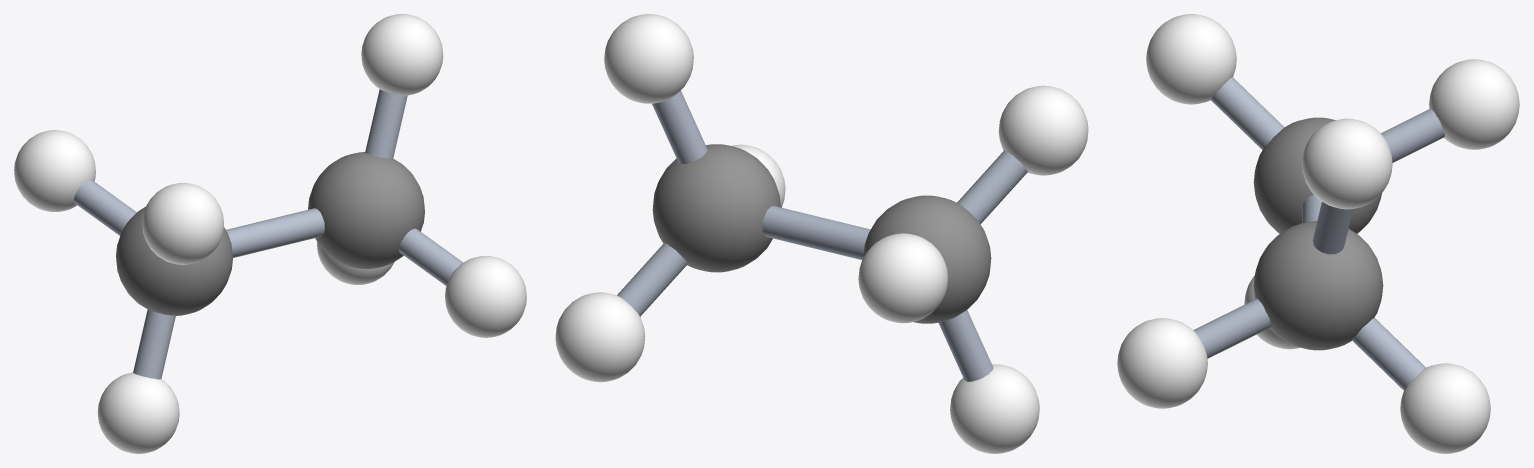
Rendered from ethane.glb.
3 renders of one model, left to right at view 1: azimuth 30°, elevation 25°; view 2: azimuth 150°, elevation 25°; view 3: azimuth 270°, elevation 25°, orthographic. The views are drawn at different scales.
Visible parts, largest first — view 1: H (×6), C (×2), bond (×5); view 2: H (×6), C (×2), bond (×5); view 3: H (×6), C (×2), bond (×6).
Part boxes in pixels (<box>): H (×6): <box>14,14,526,453</box>; C (×2): <box>116,152,424,315</box>; bond (×5): <box>73,89,463,379</box>; H (×6): <box>555,14,1088,453</box>; C (×2): <box>652,144,991,323</box>; bond (×5): <box>617,90,1027,381</box>; H (×6): <box>1117,14,1519,453</box>; C (×2): <box>1253,117,1383,350</box>; bond (×6): <box>1193,77,1444,390</box>.
Bounding box in the file's own units: 0.22 × 0.1996 × 0.1924.
